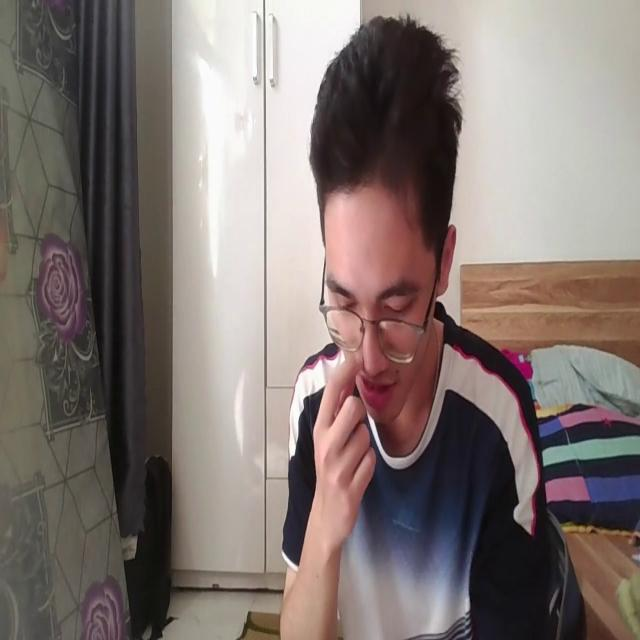student: (271, 10, 549, 640)
